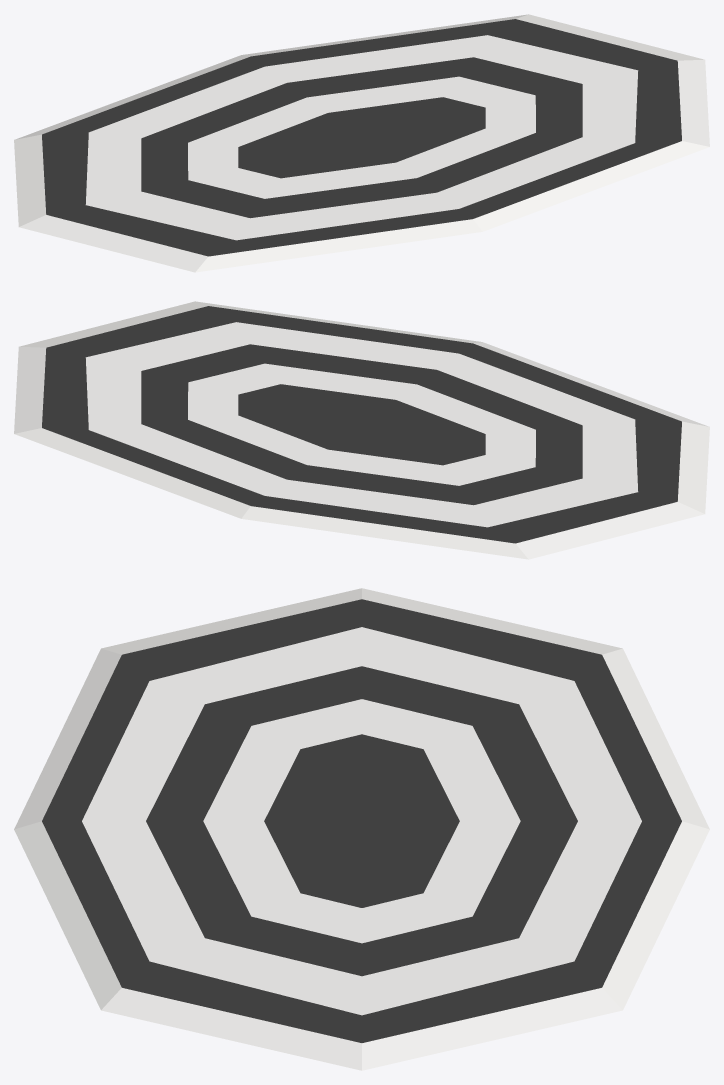
The model's file is Carpet_12.fbx.
3 renders of one model, top to bottom at view 1: azimuth 30°, elevation 25°; view 2: azimuth 150°, elevation 25°; view 3: azimuth 270°, elevation 25°, orthographic. The views are drawn at different scales.
Visible parts, largest first — view 1: Carpet_12; view 2: Carpet_12; view 3: Carpet_12.
Part boxes in pixels (bbox=[...]): Carpet_12: bbox=[14, 14, 709, 272]; Carpet_12: bbox=[14, 301, 709, 559]; Carpet_12: bbox=[14, 588, 709, 1070].
Size of the model in its own units: 264 by 161 by 2.1.
